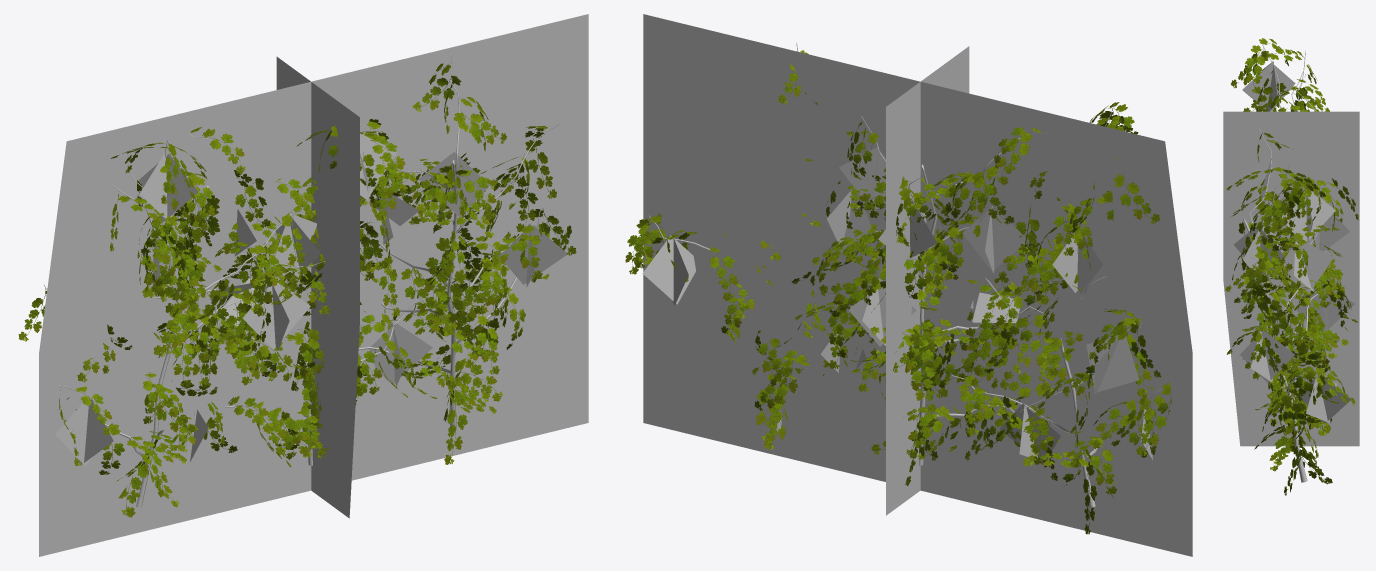
File: Grape_red2.fbx
The picture shows the model from 3 angles, left to right: view 1: azimuth 30°, elevation 25°; view 2: azimuth 150°, elevation 25°; view 3: azimuth 270°, elevation 25°; orthographic projection. The views are drawn at different scales.
Parts seen in each view (by area): view 1: Billboard, LOD0; view 2: Billboard, LOD0; view 3: LOD0, Billboard.
Boxes of the visible parts, left/top/right/bottom form: Billboard: left=39, top=14, right=588, bottom=556; LOD0: left=18, top=55, right=576, bottom=517; Billboard: left=643, top=14, right=1192, bottom=556; LOD0: left=625, top=43, right=1172, bottom=534; LOD0: left=1225, top=38, right=1358, bottom=495; Billboard: left=1223, top=111, right=1359, bottom=446.
Size of what is drawn, in the model's own units: 375 by 270 by 101.
